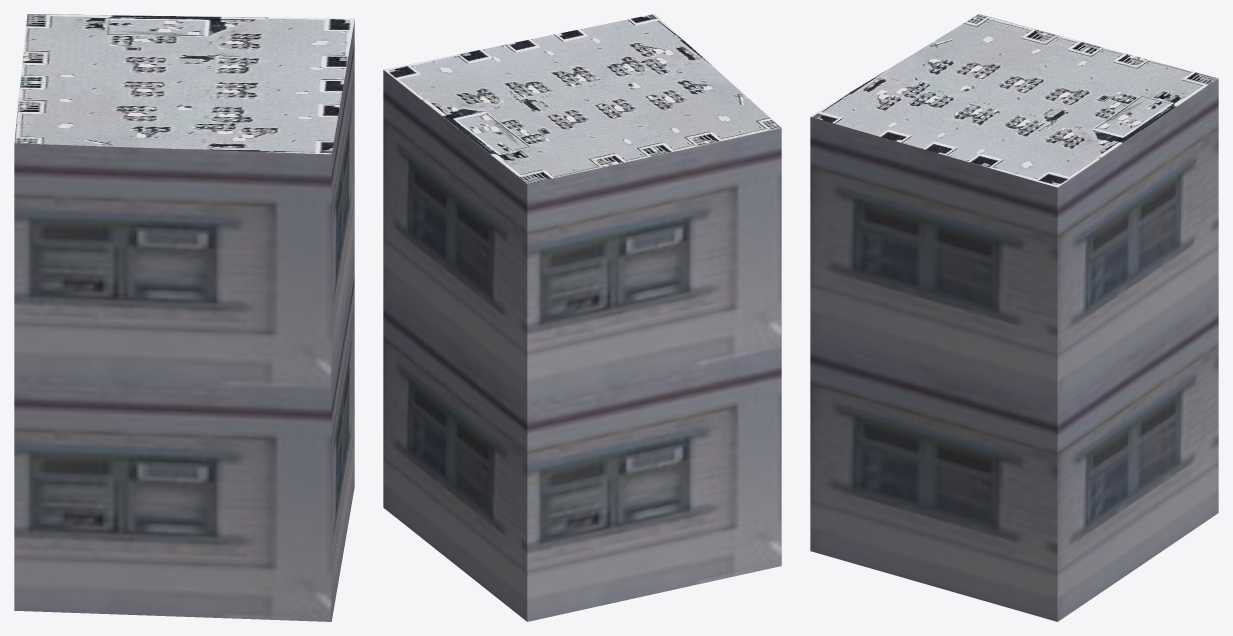
Rendered from ResTex__372.fbx.
3 views of the same model, side by side, from view 1: azimuth 30°, elevation 25°; view 2: azimuth 150°, elevation 25°; view 3: azimuth 270°, elevation 25° (orthographic). The views are drawn at different scales.
Parts seen in each view (by area): view 1: CityEngineMaterial_1_m, CityEngineMaterial_8_m; view 2: CityEngineMaterial_1_m, CityEngineMaterial_8_m; view 3: CityEngineMaterial_1_m, CityEngineMaterial_8_m.
Boxes of the visible parts, x1,y1,x2,y2 form: CityEngineMaterial_1_m: [14, 21, 354, 621]; CityEngineMaterial_8_m: [14, 14, 354, 154]; CityEngineMaterial_1_m: [383, 70, 781, 621]; CityEngineMaterial_8_m: [383, 14, 781, 183]; CityEngineMaterial_1_m: [810, 79, 1218, 621]; CityEngineMaterial_8_m: [810, 14, 1218, 187].
Size of the model in its own units: 5.14 by 6 by 5.12.
2 materials, 2 textured.
